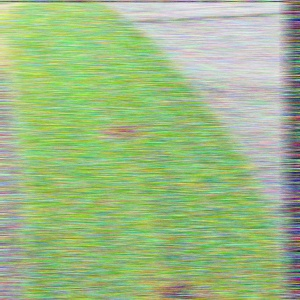Bacterial_Leaf_Blight: (102, 115, 157, 142), (177, 276, 214, 294), (156, 284, 196, 300), (65, 246, 86, 259), (184, 180, 202, 192), (117, 218, 135, 230), (68, 18, 83, 29), (142, 267, 160, 275), (157, 277, 174, 285), (1, 38, 15, 47)
